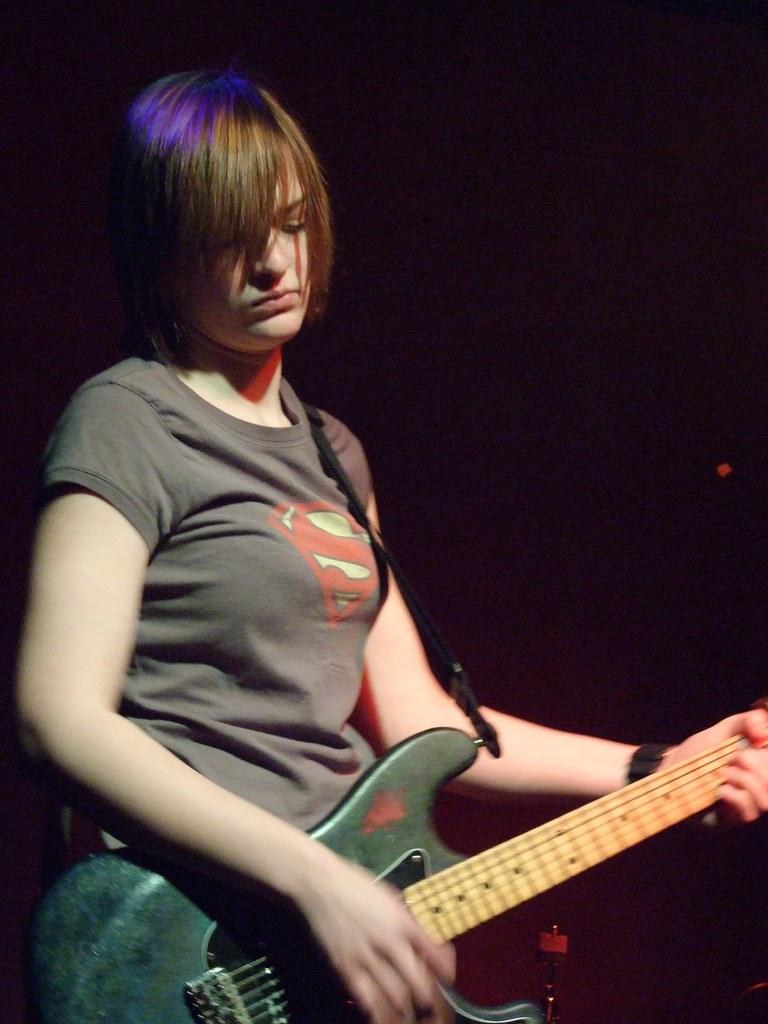Pessoa: (18, 73, 466, 1023)
